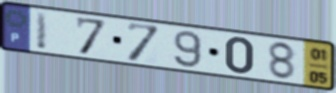0: (223, 36, 256, 76)
7: (125, 21, 161, 64), (75, 15, 110, 57)
8: (266, 41, 299, 82)
9: (170, 29, 205, 70)
I: (34, 10, 51, 52)
